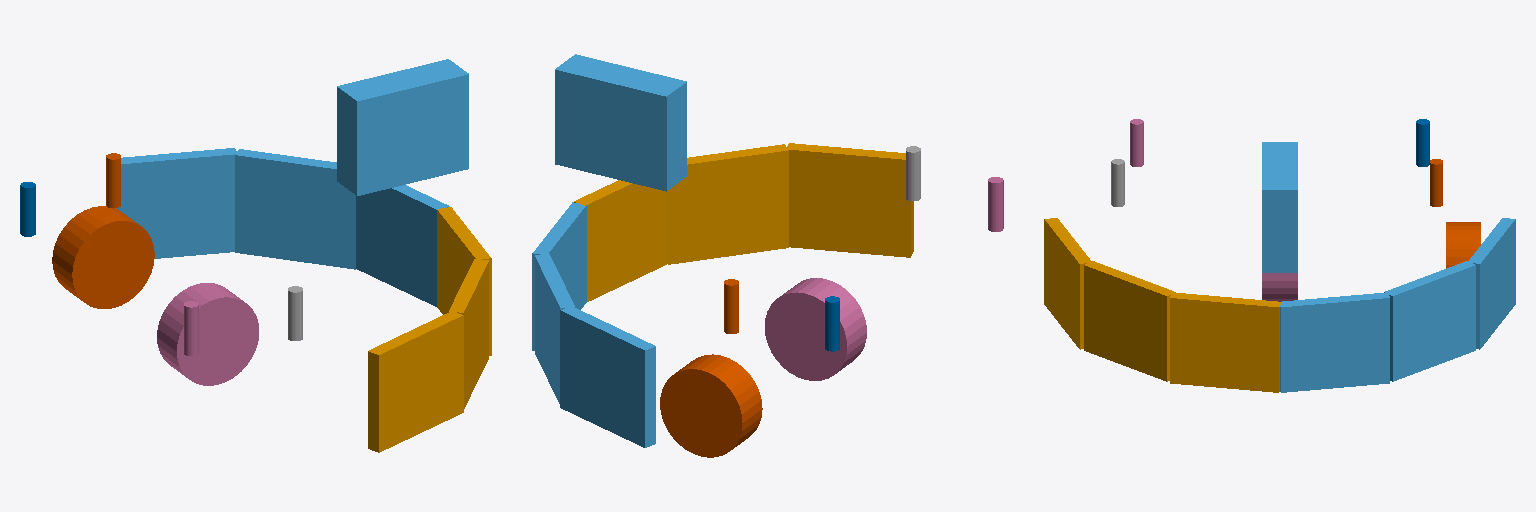
The robot description file, URDF, robot "[local-path]/ROS2-Project/src/my_create_map_webots/resource/MyCr":
<?xml version="1.0"?>
<robot name="[local-path]/ROS2-Project/src/my_create_map_webots/resource/MyCreate_kinect_.urdf" xmlns:xacro="http://ros.org/wiki/xacro">
  <webots>
    <plugin type="my_create_map_webots.my_create_driver_kinect.MyCreateDriverKinect"/>
  </webots>
  <!-- ======================= BASE LINK ======================= -->
  <link name="base_link"/>

  <!-- ======================= KINECT CAMERA ======================= -->
  <!-- This is the physical body of the Kinect camera -->
  <link name="Kinect">
    <visual>
      <origin xyz="0 0 0" rpy="0 0 0"/>
      <geometry>
        <box size="0.084 0.027 0.068"/>
      </geometry>
    </visual>
    <collision>
      <origin xyz="0 0 0" rpy="0 0 0"/>
      <geometry>
        <box size="0.084 0.027 0.068"/>
      </geometry>
    </collision>
  </link>

  <!-- This joint mounts the camera body onto the robot's base link -->
  <joint name="base_to_kinect_joint" type="fixed">
    <parent link="base_link"/>
    <child link="Kinect"/>
    <!-- Position the camera 14cm forward and 10cm up from the base_link origin -->
    <origin xyz="0.14 0 0.10" rpy="0 0 0"/>
  </joint>


  <!-- CORRECTED: RGB Optical Frame -->
  <!-- The link for the optical center of the RGB camera -->
  <link name="camera_rgb_frame"/>

  <!-- This joint connects the optical frame to the camera BODY -->
  <joint name="kinect_to_rgb_joint" type="fixed">
    <parent link="Kinect"/> <!-- CORRECTED: Parent is now the camera body -->
    <child link="camera_rgb_frame"/>
    <!-- The origin is now relative to the Kinect link.
         The standard ROS optical rotation is applied here. -->
    <origin xyz="0 0 0" rpy="-1.570796 0 -1.570796"/>
  </joint>


  <!-- CORRECTED: Depth Optical Frame -->
  <!-- The link for the optical center of the Depth camera -->
  <link name="camera_depth_frame"/>

  <!-- This joint connects the depth optical frame to the camera BODY -->
  <joint name="kinect_to_depth_joint" type="fixed">
    <parent link="Kinect"/> <!-- CORRECTED: Parent is now the camera body -->
    <child link="camera_depth_frame"/>
    <!-- Assume the depth sensor is 2.5cm to the left of the RGB sensor (relative to Kinect body) -->
    <!-- <origin xyz="0 -0.025 0" rpy="-1.570796 0 -1.570796"/> -->
    <origin xyz="0 -0.025 0" rpy="0 0 0"/>
  </joint>


  <link name="stand_left_back_1">
    <visual>
      <geometry>
        <cylinder radius="0.005" length="0.035"/>
      </geometry>
    </visual>
    <collision>
      <geometry>
        <cylinder radius="0.005" length="0.035"/>
      </geometry>
    </collision>
  </link>
  <joint name="base_link_stand_left_back_1_joint" type="fixed">
    <parent link="base_link"/>
    <child link="stand_left_back_1"/>
    <origin xyz="-0.08 0.106 0.05" rpy="0 0 0"/>
  </joint>
  <link name="stand_left_front_1">
    <visual>
      <geometry>
        <cylinder radius="0.005" length="0.035"/>
      </geometry>
    </visual>
    <collision>
      <geometry>
        <cylinder radius="0.005" length="0.035"/>
      </geometry>
    </collision>
  </link>
  <joint name="base_link_stand_left_front_1_joint" type="fixed">
    <parent link="base_link"/>
    <child link="stand_left_front_1"/>
    <origin xyz="-0.01 0.116 0.05" rpy="0 0 0"/>
  </joint>
  <link name="stand_right_back_1">
    <visual>
      <geometry>
        <cylinder radius="0.005" length="0.035"/>
      </geometry>
    </visual>
    <collision>
      <geometry>
        <cylinder radius="0.005" length="0.035"/>
      </geometry>
    </collision>
  </link>
  <joint name="base_link_stand_right_back_1_joint" type="fixed">
    <parent link="base_link"/>
    <child link="stand_right_back_1"/>
    <origin xyz="-0.08 -0.106 0.05" rpy="0 0 0"/>
  </joint>
  <link name="stand_right_front_1">
    <visual>
      <geometry>
        <cylinder radius="0.005" length="0.035"/>
      </geometry>
    </visual>
    <collision>
      <geometry>
        <cylinder radius="0.005" length="0.035"/>
      </geometry>
    </collision>
  </link>
  <joint name="base_link_stand_right_front_1_joint" type="fixed">
    <parent link="base_link"/>
    <child link="stand_right_front_1"/>
    <origin xyz="-0.01 -0.12 0.05" rpy="0 0 0"/>
  </joint>
  <link name="plate_1">
  </link>
  <joint name="base_link_plate_1_joint" type="fixed">
    <parent link="base_link"/>
    <child link="plate_1"/>
    <origin xyz="0 0 0.07" rpy="0 0 0"/>
  </joint>
  <link name="cliff_left">
  </link>
  <joint name="base_link_cliff_left_joint" type="fixed">
    <parent link="base_link"/>
    <child link="cliff_left"/>
    <origin xyz="0.07 0.15 0" rpy="-1.876967 1.570787 1.264616"/>
  </joint>
  <link name="cliff_front_left">
  </link>
  <joint name="base_link_cliff_front_left_joint" type="fixed">
    <parent link="base_link"/>
    <child link="cliff_front_left"/>
    <origin xyz="0.15 0.04 0" rpy="-1.876967 1.570787 1.264616"/>
  </joint>
  <link name="cliff_front_right">
  </link>
  <joint name="base_link_cliff_front_right_joint" type="fixed">
    <parent link="base_link"/>
    <child link="cliff_front_right"/>
    <origin xyz="0.15 -0.04 0" rpy="-1.876967 1.570787 1.264616"/>
  </joint>
  <link name="cliff_right">
  </link>
  <joint name="base_link_cliff_right_joint" type="fixed">
    <parent link="base_link"/>
    <child link="cliff_right"/>
    <origin xyz="0.07 -0.15 0" rpy="-1.876967 1.570787 1.264616"/>
  </joint>
  <link name="led_step">
  </link>
  <joint name="base_link_led_step_joint" type="fixed">
    <parent link="base_link"/>
    <child link="led_step"/>
    <origin xyz="0.0189 -0.0581 0.0349" rpy="0 0 0"/>
  </joint>
  <link name="led_play">
  </link>
  <joint name="base_link_led_play_joint" type="fixed">
    <parent link="base_link"/>
    <child link="led_play"/>
    <origin xyz="0.0193 -0.0132 0.0349" rpy="0 0 0"/>
  </joint>
  <link name="led_on">
  </link>
  <joint name="base_link_led_on_joint" type="fixed">
    <parent link="base_link"/>
    <child link="led_on"/>
    <origin xyz="0.0202 0.0617 0.0349" rpy="0 0 0"/>
  </joint>
  <link name="bumper_right">
    <visual>
      <origin xyz="-0.078042 0 -0.148208" rpy="0 0.523599 0"/>
      <geometry>
        <box size="0.082811 0.07 0.01"/>
      </geometry>
    </visual>
    <collision>
      <origin xyz="-0.078042 0 -0.148208" rpy="0 0.523599 0"/>
      <geometry>
        <box size="0.082811 0.07 0.01"/>
      </geometry>
    </collision>
    <visual>
      <origin xyz="0 0 -0.1675" rpy="0 0 0"/>
      <geometry>
        <box size="0.082811 0.07 0.01"/>
      </geometry>
    </visual>
    <collision>
      <origin xyz="0 0 -0.1675" rpy="0 0 0"/>
      <geometry>
        <box size="0.082811 0.07 0.01"/>
      </geometry>
    </collision>
    <visual>
      <origin xyz="0.078042 0 -0.148208" rpy="0 -0.523599 0"/>
      <geometry>
        <box size="0.082811 0.07 0.01"/>
      </geometry>
    </visual>
    <collision>
      <origin xyz="0.078042 0 -0.148208" rpy="0 -0.523599 0"/>
      <geometry>
        <box size="0.082811 0.07 0.01"/>
      </geometry>
    </collision>
  </link>
  <joint name="base_link_bumper_right_joint" type="fixed">
    <parent link="base_link"/>
    <child link="bumper_right"/>
    <origin xyz="0 0 0" rpy="1.570792 0.000011 -2.297729"/>
  </joint>
  <link name="bumper_left">
    <visual>
      <origin xyz="-0.078042 0 -0.148208" rpy="0 0.523599 0"/>
      <geometry>
        <box size="0.082811 0.07 0.01"/>
      </geometry>
    </visual>
    <collision>
      <origin xyz="-0.078042 0 -0.148208" rpy="0 0.523599 0"/>
      <geometry>
        <box size="0.082811 0.07 0.01"/>
      </geometry>
    </collision>
    <visual>
      <origin xyz="0 0 -0.1675" rpy="0 0 0"/>
      <geometry>
        <box size="0.082811 0.07 0.01"/>
      </geometry>
    </visual>
    <collision>
      <origin xyz="0 0 -0.1675" rpy="0 0 0"/>
      <geometry>
        <box size="0.082811 0.07 0.01"/>
      </geometry>
    </collision>
    <visual>
      <origin xyz="0.078042 0 -0.148208" rpy="0 -0.523599 0"/>
      <geometry>
        <box size="0.082811 0.07 0.01"/>
      </geometry>
    </visual>
    <collision>
      <origin xyz="0.078042 0 -0.148208" rpy="0 -0.523599 0"/>
      <geometry>
        <box size="0.082811 0.07 0.01"/>
      </geometry>
    </collision>
  </link>
  <joint name="base_link_bumper_left_joint" type="fixed">
    <parent link="base_link"/>
    <child link="bumper_left"/>
    <origin xyz="0 0 0" rpy="1.570806 0.000006 -0.843867"/>
  </joint>
  <link name="receiver">
  </link>
  <joint name="base_link_receiver_joint" type="fixed">
    <parent link="base_link"/>
    <child link="receiver"/>
    <origin xyz="0.152 0 0.037" rpy="0 0 0"/>
  </joint>
  <link name="front wheel">
  </link>
  <joint name="base_link_front wheel_joint" type="fixed">
    <parent link="base_link"/>
    <child link="front wheel"/>
    <origin xyz="0.129 0 -0.035" rpy="0 0 0"/>
  </joint>
  <link name="rear wheel">
  </link>
  <joint name="base_link_rear wheel_joint" type="fixed">
    <parent link="base_link"/>
    <child link="rear wheel"/>
    <origin xyz="-0.1315 0 -0.0305" rpy="0 0 0"/>
  </joint>
  <joint name="left wheel motor" type="continuous">
    <parent link="base_link"/>
    <child link="left wheel"/>
    <axis xyz="0 1 0"/>
    <limit effort="10" velocity="16.129"/>
    <origin xyz="-0.0062 0 -0.014" rpy="0 0 0"/>
  </joint>
  <link name="left wheel">
    <visual>
      <origin xyz="0 0.1359 0" rpy="1.5708 0 0"/>
      <geometry>
        <cylinder radius="0.031" length="0.026"/>
      </geometry>
    </visual>
    <collision>
      <origin xyz="0 0.1359 0" rpy="1.5708 0 0"/>
      <geometry>
        <cylinder radius="0.031" length="0.026"/>
      </geometry>
    </collision>
  </link>
  <joint name="right wheel motor" type="continuous">
    <parent link="base_link"/>
    <child link="right wheel"/>
    <axis xyz="0 1 0"/>
    <limit effort="10" velocity="16.129"/>
    <origin xyz="-0.0062 0.1359 -0.014" rpy="0 0 0"/>
  </joint>
  <link name="right wheel">
    <visual>
      <origin xyz="0 -0.1359 0" rpy="1.5708 0 0"/>
      <geometry>
        <cylinder radius="0.031" length="0.026"/>
      </geometry>
    </visual>
    <collision>
      <origin xyz="0 -0.1359 0" rpy="1.5708 0 0"/>
      <geometry>
        <cylinder radius="0.031" length="0.026"/>
      </geometry>
    </collision>
  </link>
</robot>

--- Render facts (derived) ---
3 views of the same robot in one strip: view 1: azimuth 30°, elevation 25°; view 2: azimuth 150°, elevation 25°; view 3: azimuth 270°, elevation 25° (orthographic).
Robot: [local-path]/ROS2-Project/src/my_create_map_webots/resource/MyCr — 23 links, 22 joints (2 continuous, 20 fixed); root link base_link; default pose: all joints at 0.
Links seen in each view (by area): view 1: bumper_left, bumper_right, Kinect, left wheel, right wheel, stand_left_back_1, stand_right_back_1, stand_right_front_1, stand_left_front_1; view 2: bumper_right, bumper_left, Kinect, left wheel, right wheel, stand_right_back_1, stand_left_back_1, stand_left_front_1, stand_right_front_1; view 3: bumper_right, bumper_left, Kinect, left wheel, right wheel, stand_left_back_1, stand_right_back_1, stand_right_front_1, stand_left_front_1.
Boxes of the visible links, left/top/right/bottom form: bumper_left: left=116, top=148, right=449, bottom=306; bumper_right: left=368, top=207, right=491, bottom=452; Kinect: left=337, top=59, right=468, bottom=195; left wheel: left=52, top=206, right=154, bottom=308; right wheel: left=157, top=283, right=258, bottom=385; stand_left_back_1: left=20, top=182, right=35, bottom=236; stand_right_back_1: left=184, top=301, right=198, bottom=355; stand_right_front_1: left=288, top=286, right=302, bottom=340; stand_left_front_1: left=106, top=153, right=120, bottom=208; bumper_right: left=574, top=143, right=913, bottom=301; bumper_left: left=532, top=202, right=655, bottom=447; Kinect: left=555, top=54, right=686, bottom=191; left wheel: left=660, top=354, right=762, bottom=457; right wheel: left=765, top=278, right=866, bottom=380; stand_right_back_1: left=988, top=177, right=1003, bottom=231; stand_left_back_1: left=825, top=296, right=839, bottom=351; stand_left_front_1: left=724, top=279, right=738, bottom=333; stand_right_front_1: left=906, top=146, right=920, bottom=201; bumper_right: left=1044, top=218, right=1281, bottom=392; bumper_left: left=1280, top=218, right=1515, bottom=392; Kinect: left=1262, top=142, right=1297, bottom=272; left wheel: left=1446, top=222, right=1480, bottom=268; right wheel: left=1262, top=273, right=1297, bottom=301; stand_left_back_1: left=1416, top=119, right=1429, bottom=166; stand_right_back_1: left=1130, top=119, right=1143, bottom=166; stand_right_front_1: left=1111, top=159, right=1124, bottom=206; stand_left_front_1: left=1430, top=159, right=1442, bottom=206.
Bounding box of the posed robot: 0.267 × 0.3492 × 0.179 m (x, y, z).
Geometry: primitives only (box / cylinder / sphere), no mesh files.
